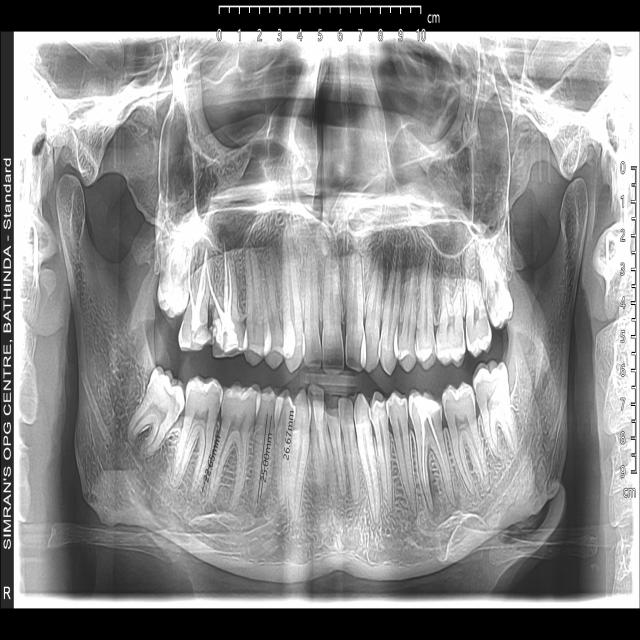Filling: (413, 396, 440, 422), (222, 319, 238, 352), (191, 309, 200, 332)
Periapical lesion: (420, 470, 438, 520), (447, 490, 462, 511), (219, 225, 231, 243)
Root Canal Treatment: (427, 414, 450, 496), (207, 263, 225, 324), (195, 248, 207, 309), (421, 419, 428, 496), (223, 241, 228, 313), (198, 266, 206, 310), (188, 268, 195, 311), (227, 261, 232, 315)
impacted tooth: (128, 367, 185, 457), (472, 360, 516, 457), (478, 243, 512, 329), (158, 239, 191, 318)
